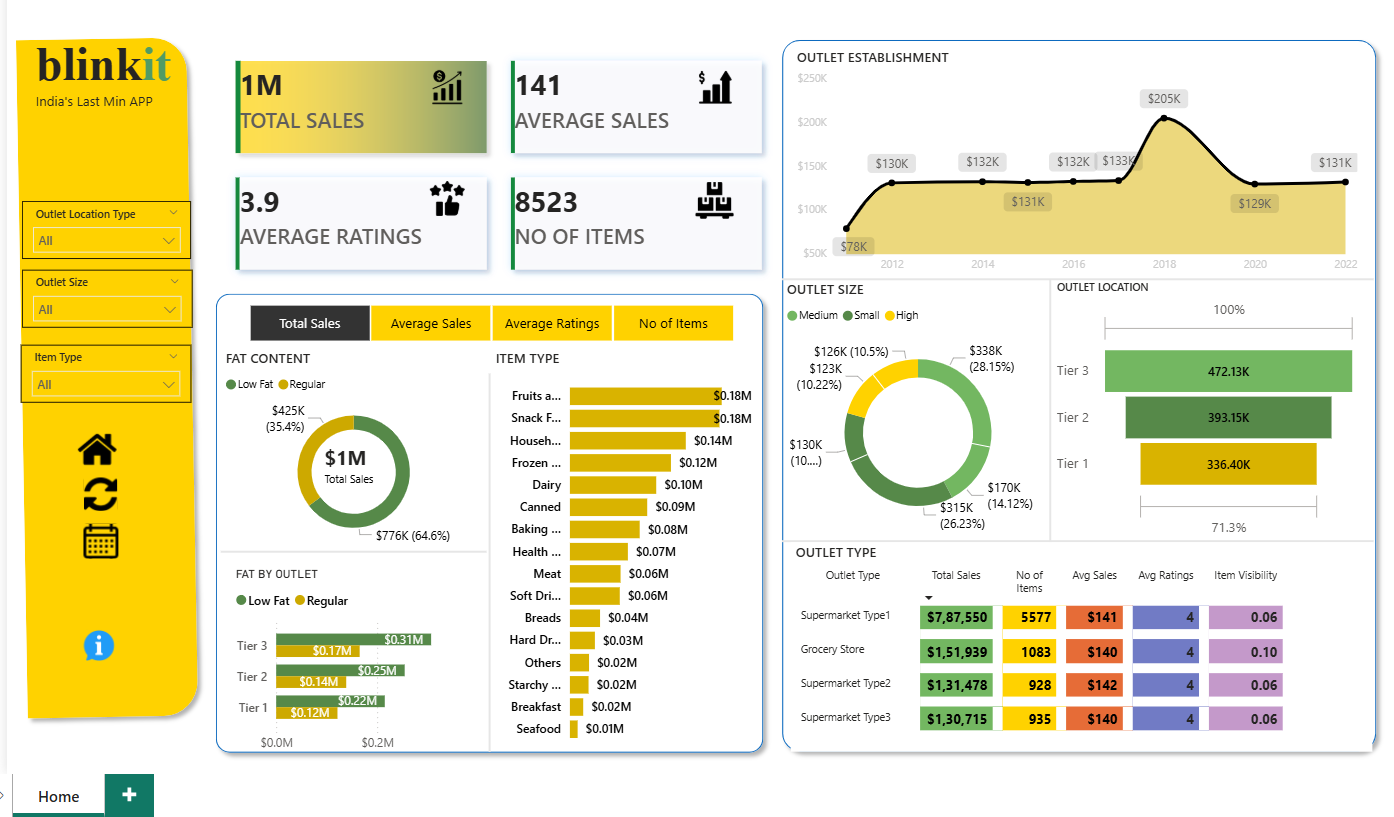

What the dashboard file says about the page in this screenshot:
{"tool":"powerbi","page":{"name":"Home","canvas":[1400,800],"ordinal":0},"visuals":[{"type":"shape","box":[0,0,201.6,800.3],"z":0},{"type":"textbox","box":[0,52.1,225.1,81.4],"z":1000},{"type":"textbox","box":[24.2,106.8,501.1,52.1],"z":2000},{"type":"cardVisual","fields":{"Data":["BlinkIT Grocery Data.Total Sales","BlinkIT Grocery Data.Average Sales","BlinkIT Grocery Data.Average Ratings","BlinkIT Grocery Data.No of Items"]},"box":[202,51,588.1,268.5],"z":3000},{"type":"image","box":[424.7,89.5,37.8,35.3],"z":4000},{"type":"image","box":[689.4,89.5,49.1,35.3],"z":5000},{"type":"image","box":[424.7,201.6,37.8,35.3],"z":6000},{"type":"image","box":[689.4,201.6,47.9,39.1],"z":7000},{"type":"shape","box":[202.2,306.5,569.8,480.7],"z":8000},{"type":"donutChart","title":"FAT CONTENT","fields":{"Y":["BlinkIT Grocery Data.Total Sales"],"Category":["BlinkIT Grocery Data.Item Fat Content"],"Series":["BlinkIT Grocery Data.Item Fat Content"]},"box":[214.9,370.1,268.4,203.5],"z":9000},{"type":"slicer","fields":{"Values":["Parameter.Parameter"]},"box":[218.8,320.5,536.7,49.6],"z":10000},{"type":"cardVisual","fields":{"Data":["BlinkIT Grocery Data.Total Sales"]},"box":[291.2,446.4,117,91.6],"z":11000},{"type":"clusteredBarChart","title":"FAT BY OUTLET","fields":{"Y":["BlinkIT Grocery Data.Total Sales"],"Category":["BlinkIT Grocery Data.Outlet Location Type"],"Series":["BlinkIT Grocery Data.Item Fat Content"]},"box":[225.1,591.4,258.2,195.9],"z":12000},{"type":"shape","box":[214.9,564.7,268.4,21.6],"z":13000},{"type":"shape","box":[474.4,395.5,25.4,381.5],"z":14000},{"type":"barChart","title":"ITEM TYPE","fields":{"Y":["BlinkIT Grocery Data.Total Sales"],"Category":["BlinkIT Grocery Data.Item Type"]},"box":[487.7,370.5,268.4,407.1],"z":15000},{"type":"shape","box":[772,50.9,616.8,735.1],"z":16000},{"type":"lineChart","title":"OUTLET ESTABLISHMENT","fields":{"Category":["BlinkIT Grocery Data.Outlet Establishment Year"],"Y":["BlinkIT Grocery Data.Total Sales"]},"box":[791.3,67,575.2,235.9],"z":17000},{"type":"shape","box":[780.9,286.2,596.5,29.3],"z":18000},{"type":"donutChart","title":"OUTLET SIZE","fields":{"Y":["BlinkIT Grocery Data.Total Sales"],"Series":["BlinkIT Grocery Data.Item Fat Content"],"Category":["BlinkIT Grocery Data.Outlet Size"]},"box":[780.9,301.4,274.7,263.3],"z":19000},{"type":"shape","box":[1039.1,301.4,26.7,264.5],"z":20000},{"type":"funnel","title":"OUTLET LOCATION","fields":{"Category":["BlinkIT Grocery Data.Outlet Location Type"],"Y":["Sum(BlinkIT Grocery Data.Sales)"]},"box":[1053.1,301.4,312.9,264.5],"z":21000},{"type":"shape","box":[780.9,546.9,596.5,35.6],"z":22000},{"type":"pivotTable","title":"OUTLET TYPE","fields":{"Rows":["BlinkIT Grocery Data.Outlet Type"],"Values":["BlinkIT Grocery Data.Total Sales","BlinkIT Grocery Data.No of Items","BlinkIT Grocery Data.Avg Sales","BlinkIT Grocery Data.Avg Ratings","Avg(BlinkIT Grocery Data.Item Visibility)"]},"box":[789.8,566,586.3,211.1],"z":23000},{"type":"slicer","fields":{"Values":["BlinkIT Grocery Data.Outlet Location Type"]},"box":[15.3,221.3,170.4,58.5],"z":24000},{"type":"slicer","fields":{"Values":["BlinkIT Grocery Data.Outlet Size"]},"box":[15.3,291.2,171.7,58.5],"z":25000},{"type":"slicer","fields":{"Values":["BlinkIT Grocery Data.Item Type"]},"box":[14,366.3,171.7,58.5],"z":26000},{"type":"actionButton","box":[47.1,448.9,89,47.1],"z":27000},{"type":"actionButton","box":[57.2,496,58.5,42],"z":27001},{"type":"actionButton","box":[72.5,543.1,81.4,43.2],"z":27002},{"type":"actionButton","box":[72.5,649.9,100.5,39.4],"z":27003}]}

Visuals, with their boxes on the page's 1400x800 design canvas (x1, y1, x2, y2). These are canvas units, not pixel positions in the 1394x817 screenshot, which may show the page scaled, cropped or inside an application window:
shape: <bbox>0, 0, 202, 800</bbox>
textbox: <bbox>0, 52, 225, 134</bbox>
textbox: <bbox>24, 107, 525, 159</bbox>
cardVisual - BlinkIT Grocery Data.Total Sales x BlinkIT Grocery Data.Average Sales: <bbox>202, 51, 790, 320</bbox>
image: <bbox>425, 90, 462, 125</bbox>
image: <bbox>689, 90, 738, 125</bbox>
image: <bbox>425, 202, 462, 237</bbox>
image: <bbox>689, 202, 737, 241</bbox>
shape: <bbox>202, 306, 772, 787</bbox>
"FAT CONTENT" donutChart: <bbox>215, 370, 483, 574</bbox>
slicer - Parameter.Parameter: <bbox>219, 320, 756, 370</bbox>
cardVisual - BlinkIT Grocery Data.Total Sales: <bbox>291, 446, 408, 538</bbox>
"FAT BY OUTLET" clusteredBarChart: <bbox>225, 591, 483, 787</bbox>
shape: <bbox>215, 565, 483, 586</bbox>
shape: <bbox>474, 396, 500, 777</bbox>
"ITEM TYPE" barChart: <bbox>488, 370, 756, 778</bbox>
shape: <bbox>772, 51, 1389, 786</bbox>
"OUTLET ESTABLISHMENT" lineChart: <bbox>791, 67, 1366, 303</bbox>
shape: <bbox>781, 286, 1377, 316</bbox>
"OUTLET SIZE" donutChart: <bbox>781, 301, 1056, 565</bbox>
shape: <bbox>1039, 301, 1066, 566</bbox>
"OUTLET LOCATION" funnel: <bbox>1053, 301, 1366, 566</bbox>
shape: <bbox>781, 547, 1377, 582</bbox>
"OUTLET TYPE" pivotTable: <bbox>790, 566, 1376, 777</bbox>
slicer - BlinkIT Grocery Data.Outlet Location Type: <bbox>15, 221, 186, 280</bbox>
slicer - BlinkIT Grocery Data.Outlet Size: <bbox>15, 291, 187, 350</bbox>
slicer - BlinkIT Grocery Data.Item Type: <bbox>14, 366, 186, 425</bbox>
actionButton: <bbox>47, 449, 136, 496</bbox>
actionButton: <bbox>57, 496, 116, 538</bbox>
actionButton: <bbox>72, 543, 154, 586</bbox>
actionButton: <bbox>72, 650, 173, 689</bbox>
